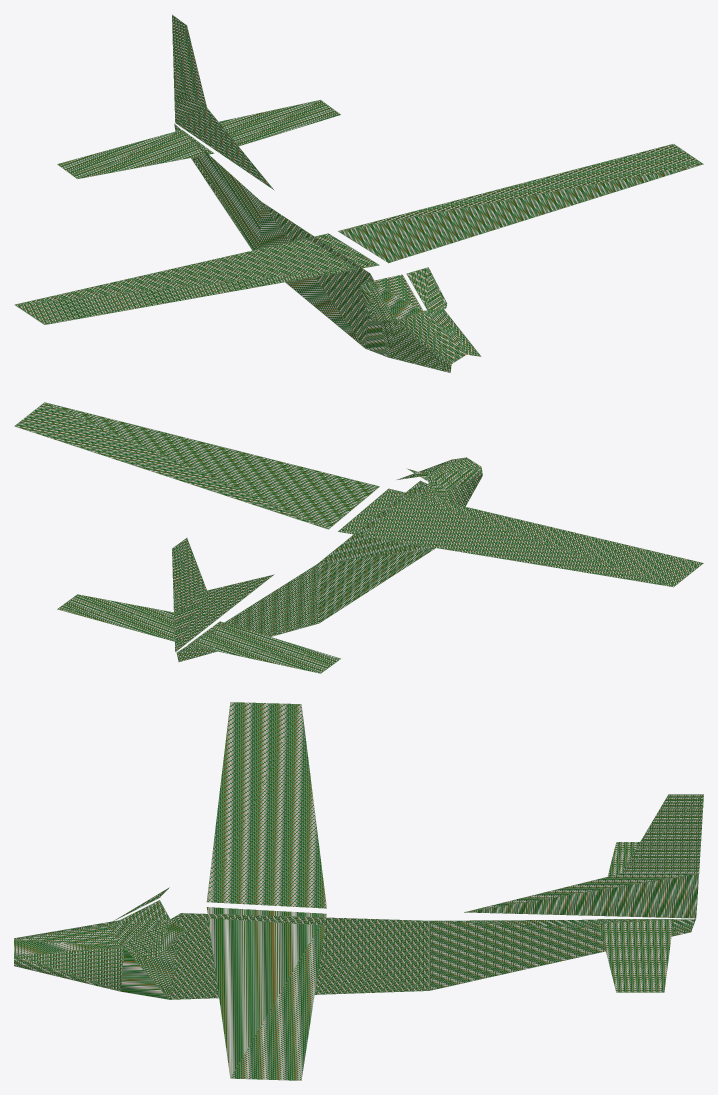
File: HTAI Cessna C208B Cargo Pod MSFS_LOD1.gltf
3 views of the same model, one above another, from view 1: azimuth 30°, elevation 25°; view 2: azimuth 150°, elevation 25°; view 3: azimuth 270°, elevation 25° (orthographic). The views are drawn at different scales.
Visible parts, largest first — view 1: node1; view 2: node1; view 3: node1.
Boxes of the visible parts, bbox=[...] form: node1: bbox=[14, 14, 703, 372]; node1: bbox=[14, 402, 703, 673]; node1: bbox=[14, 702, 703, 1080].
Size of the model in its own units: 15.74 by 3.62 by 12.18.
